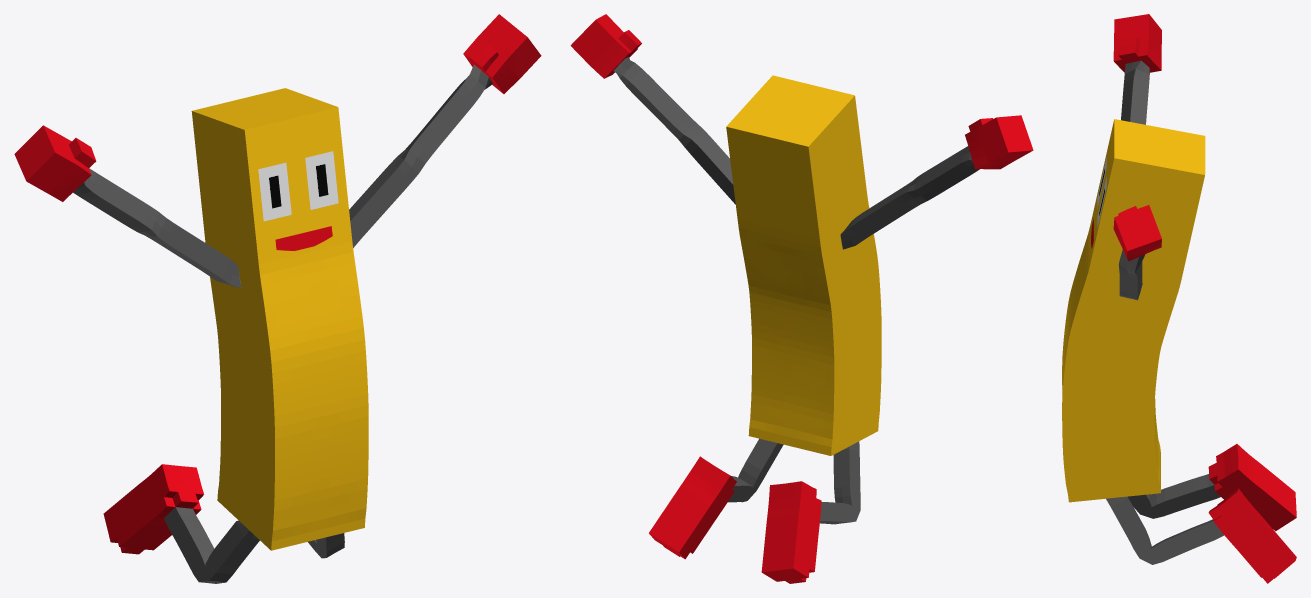
Rendered from potatokun_banzai.fbx.
3 views of the same model, side by side, from view 1: azimuth 30°, elevation 25°; view 2: azimuth 150°, elevation 25°; view 3: azimuth 270°, elevation 25° (orthographic). The views are drawn at different scales.
Parts seen in each view (by area): view 1: PLY PK 60cm; view 2: PLY PK 60cm; view 3: PLY PK 60cm.
Part boxes in pixels (left/top/right/bottom): PLY PK 60cm: left=14, top=14, right=541, bottom=583; PLY PK 60cm: left=570, top=14, right=1033, bottom=583; PLY PK 60cm: left=1062, top=14, right=1296, bottom=583.
Size of the model in its own units: 54.95 by 53.05 by 25.28.
Materials: 1 (1 with a texture image).
